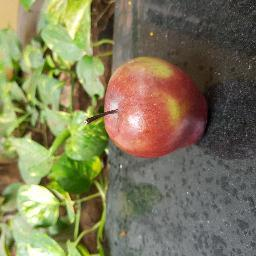Good_apple: (102, 58, 211, 158)
